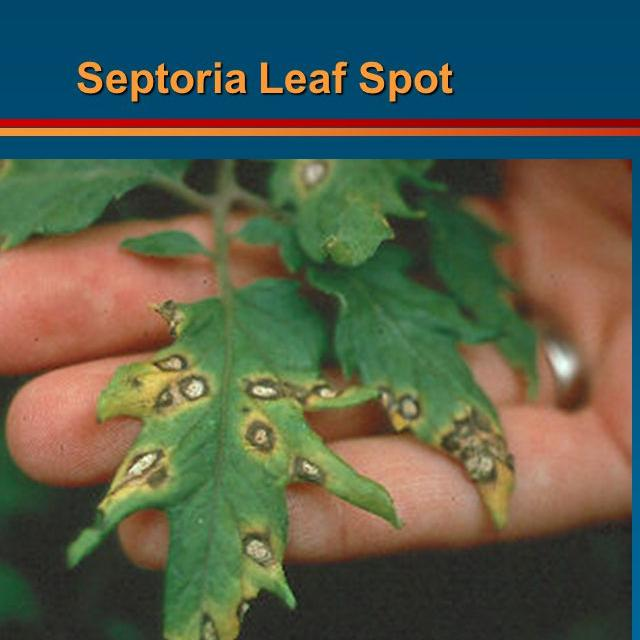Tomato Septoria leaf spot: (60, 289, 376, 640), (326, 238, 528, 532), (0, 163, 222, 282)
